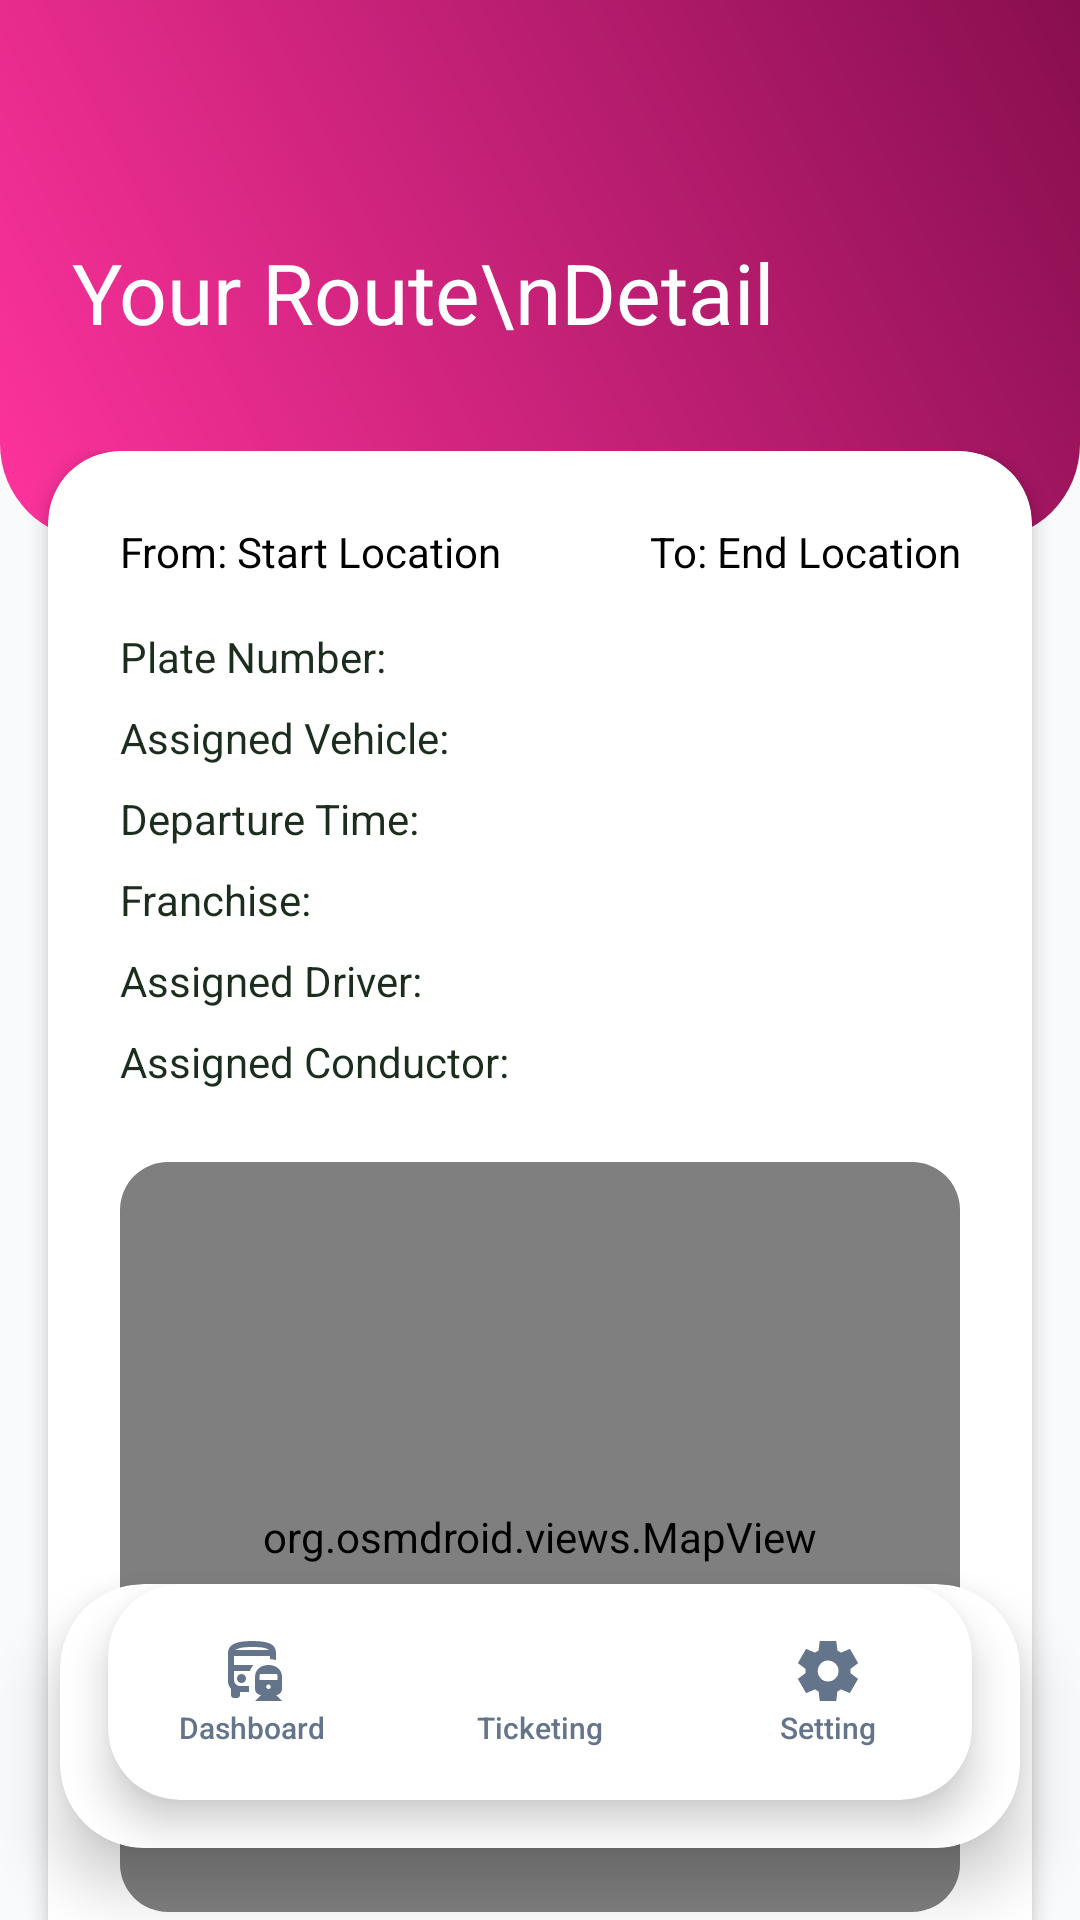

Named icons in this screenshot (1080 × 1920) and their centers, (x,y):
bus railway: (255,1671)
